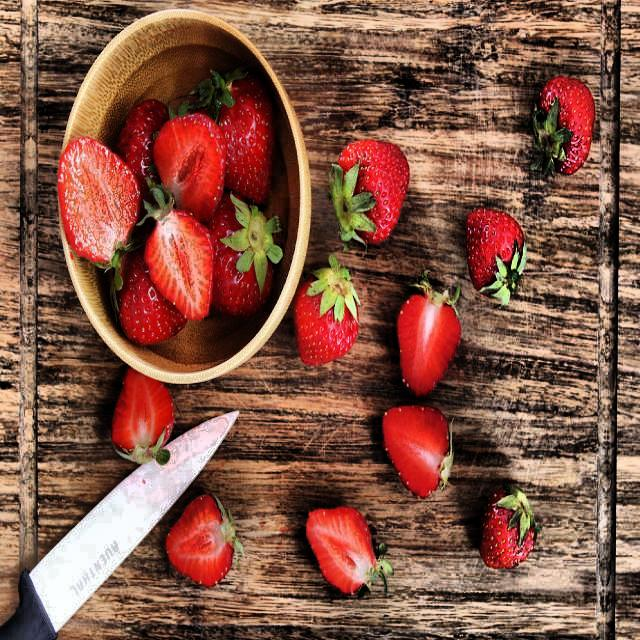knife: (0, 406, 243, 640)
